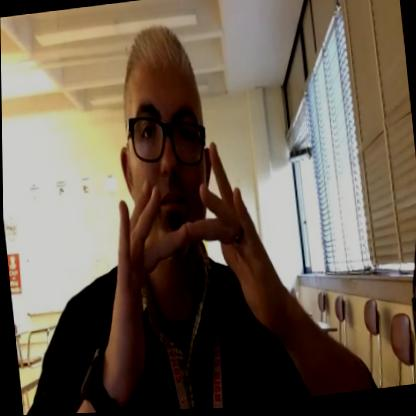Internet: (92, 128, 296, 413)
